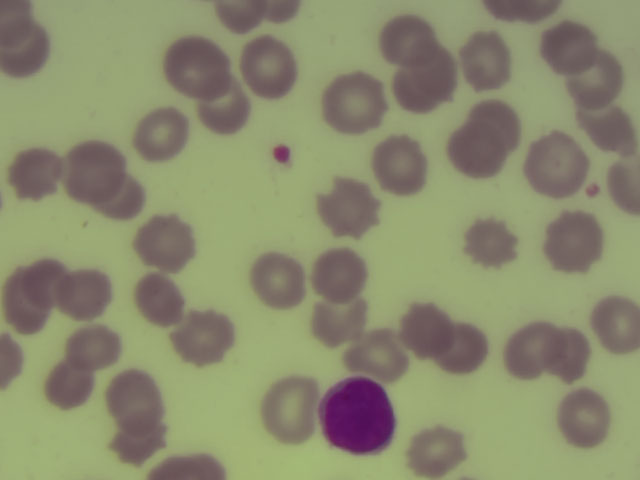Platelets: (275, 147, 291, 165), (588, 186, 599, 198)
RBC: (255, 374, 320, 444), (320, 71, 390, 133), (538, 317, 597, 384), (526, 134, 589, 196), (63, 140, 124, 202), (165, 41, 233, 96), (312, 183, 381, 237), (564, 100, 635, 152), (131, 217, 194, 272), (171, 314, 235, 367), (545, 214, 600, 273), (374, 135, 427, 196), (395, 303, 451, 359), (570, 51, 625, 108), (112, 369, 161, 432), (133, 107, 188, 163), (251, 255, 307, 310), (246, 37, 295, 98), (557, 390, 609, 446), (131, 277, 192, 323), (450, 125, 503, 177), (315, 248, 365, 303), (1, 23, 50, 78), (459, 221, 516, 268), (348, 329, 405, 376), (5, 275, 48, 336), (377, 16, 435, 61), (44, 364, 96, 413), (471, 101, 525, 148), (309, 298, 364, 344), (398, 60, 443, 116), (10, 148, 61, 197), (545, 22, 596, 71), (416, 429, 465, 480), (466, 31, 511, 85), (71, 325, 125, 369), (597, 297, 640, 352), (105, 427, 168, 462), (63, 274, 113, 318), (503, 327, 544, 378), (21, 262, 69, 305), (607, 157, 640, 216), (105, 176, 145, 219), (152, 460, 226, 480), (216, 1, 263, 31), (453, 325, 483, 370), (4, 331, 23, 389), (253, 1, 301, 23), (513, 2, 564, 21), (2, 3, 27, 41), (483, 2, 519, 23)
WBC: (317, 376, 397, 454)
